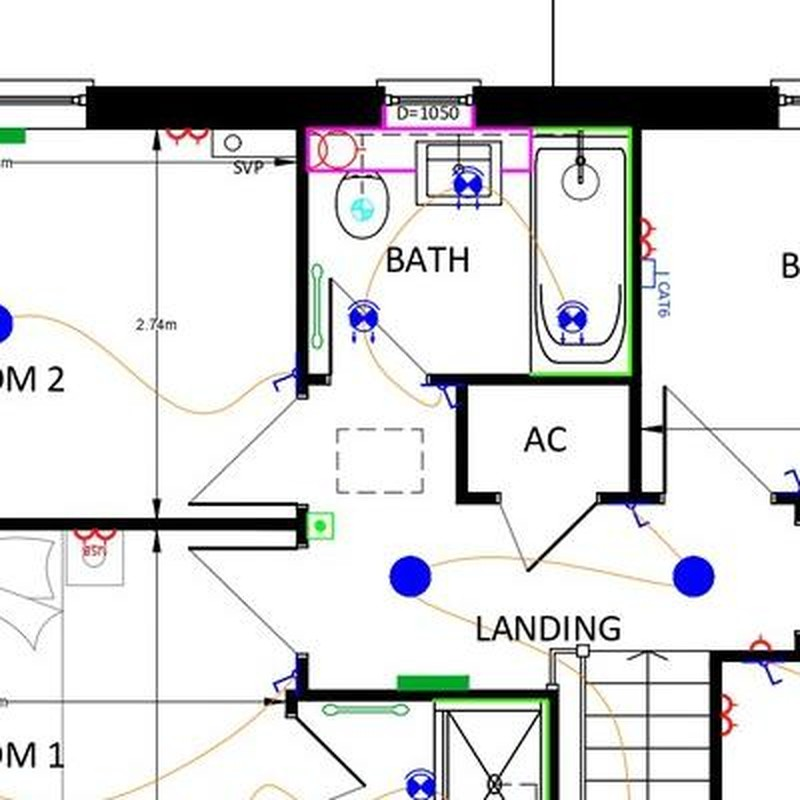Cat 6 Data Socket: (641, 260, 672, 318)
Ceiling Mounted Continuous Extract FanWith Boost Mode Activated By Light Switch: (352, 199, 374, 220)
Double Socket: (721, 694, 739, 737), (641, 218, 658, 259), (167, 129, 208, 146)
Full Height Tiling: (533, 126, 631, 375), (435, 699, 550, 800)
Light Switch: (758, 661, 783, 686), (625, 504, 650, 528), (273, 368, 297, 392), (273, 669, 297, 692), (436, 385, 456, 409), (783, 470, 800, 492)
Low Energy Downlighter: (348, 299, 380, 343), (452, 166, 484, 209), (556, 301, 588, 344), (404, 768, 435, 800)
Low Energy Pendant Light: (674, 557, 715, 597), (391, 557, 431, 597), (1, 305, 13, 342)
Programmable Room Thermostat: (307, 512, 335, 540)
Radiator: (398, 676, 470, 690), (1, 130, 25, 143)
Shaver Socket: (309, 131, 367, 170)
Single Socket: (750, 634, 772, 650)
USB Double Socket: (74, 529, 116, 557)
